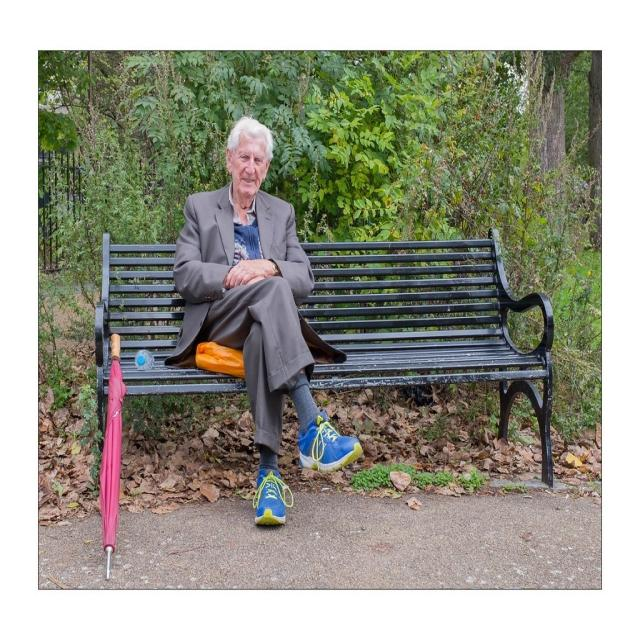idoso sentado: (117, 109, 390, 559)
